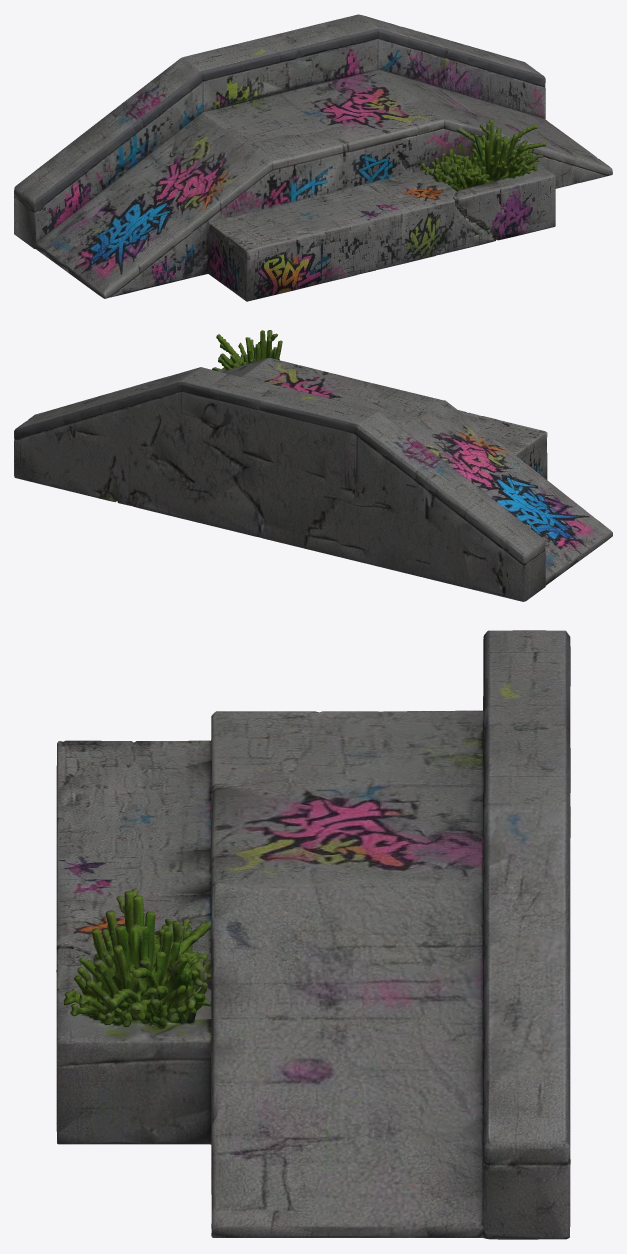
File: ramp_haven.glb
3 renders of one model, top to bottom at view 1: azimuth 30°, elevation 25°; view 2: azimuth 150°, elevation 25°; view 3: azimuth 270°, elevation 25°, orthographic. The views are drawn at different scales.
Parts seen in each view (by area): view 1: mesh_node; view 2: mesh_node; view 3: mesh_node.
Boxes of the visible parts, <box> form: mesh_node: <box>14,14,612,301</box>; mesh_node: <box>14,330,612,601</box>; mesh_node: <box>56,630,570,1239</box>.
Bounding box in the file's own units: 1.9 × 0.4876 × 0.8273.
1 material, 1 textured.
